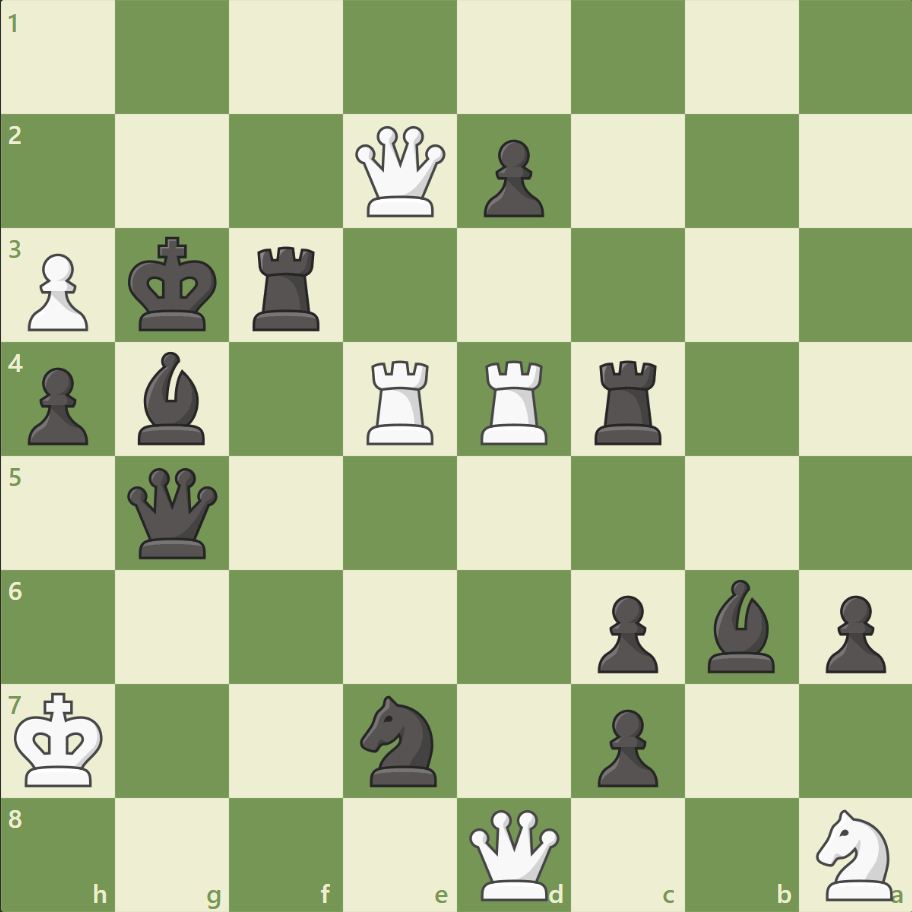K: (11, 685, 111, 793)
N: (806, 802, 903, 904)
P: (20, 246, 95, 337)
Q: (351, 122, 450, 222), (464, 804, 563, 903)
R: (473, 352, 556, 449), (360, 352, 442, 449)
b: (698, 574, 782, 676), (131, 347, 215, 449)
k: (124, 231, 224, 339)
n: (351, 688, 449, 791)
p: (20, 359, 95, 450), (474, 132, 549, 223), (588, 700, 662, 791), (815, 586, 889, 677), (588, 586, 662, 677)
q: (124, 463, 223, 562)
r: (587, 352, 670, 449), (246, 239, 329, 336)
